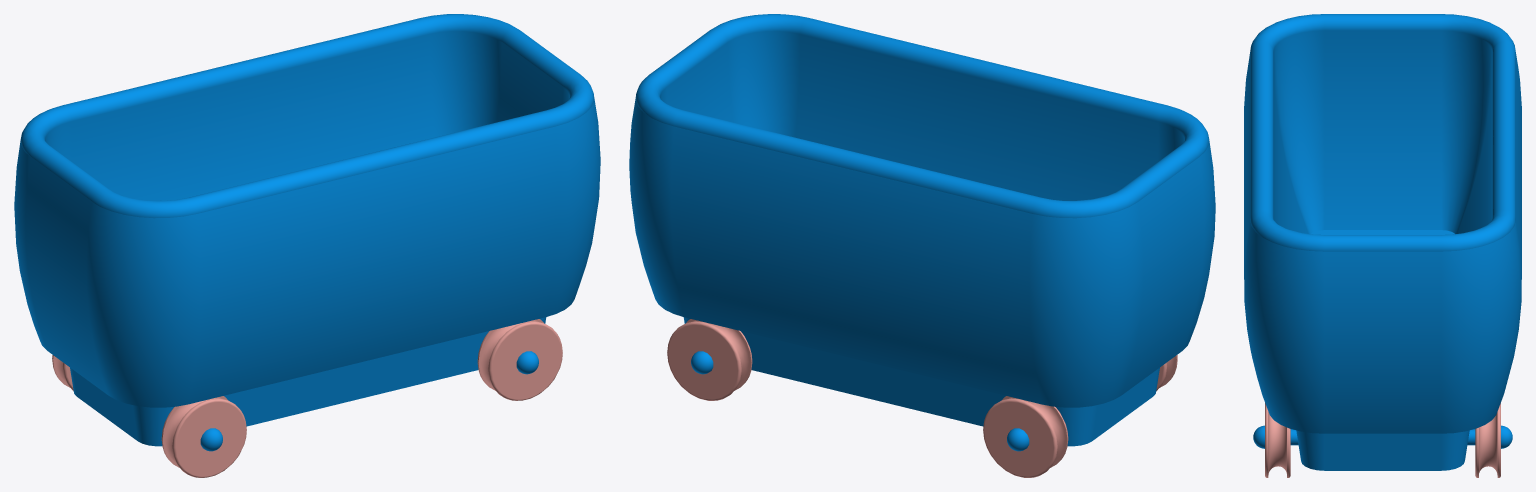
File: 0-Kart.fbx
3 views of the same model, side by side, from view 1: azimuth 30°, elevation 25°; view 2: azimuth 150°, elevation 25°; view 3: azimuth 270°, elevation 25° (orthographic). The views are drawn at different scales.
Parts seen in each view (by area): view 1: Joined Solid Geometry [9567]; view 2: Joined Solid Geometry [9567]; view 3: Joined Solid Geometry [9567].
Part boxes in pixels (x1,y1,x2,y2): Joined Solid Geometry [9567]: (14,14,600,477); Joined Solid Geometry [9567]: (629,14,1215,477); Joined Solid Geometry [9567]: (1244,14,1521,477).
Size of the model in its own units: 239 by 130 by 119.
